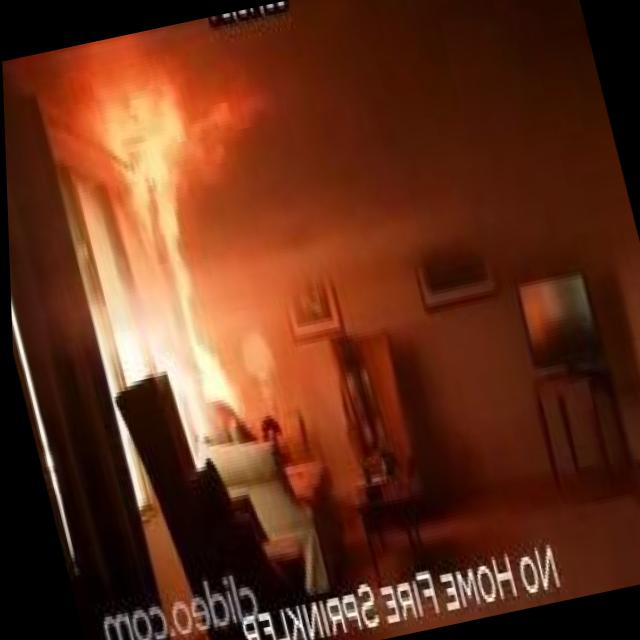fire: (97, 60, 249, 229), (152, 215, 241, 408)
